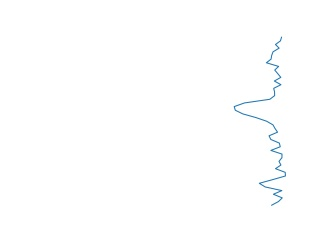interdistributaryEstuary: (230, 36, 292, 206)
